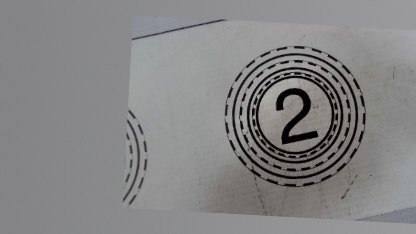2r: (218, 40, 369, 192)
